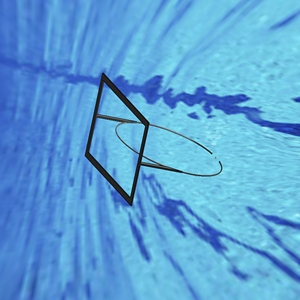circle: (83, 70, 223, 207)
